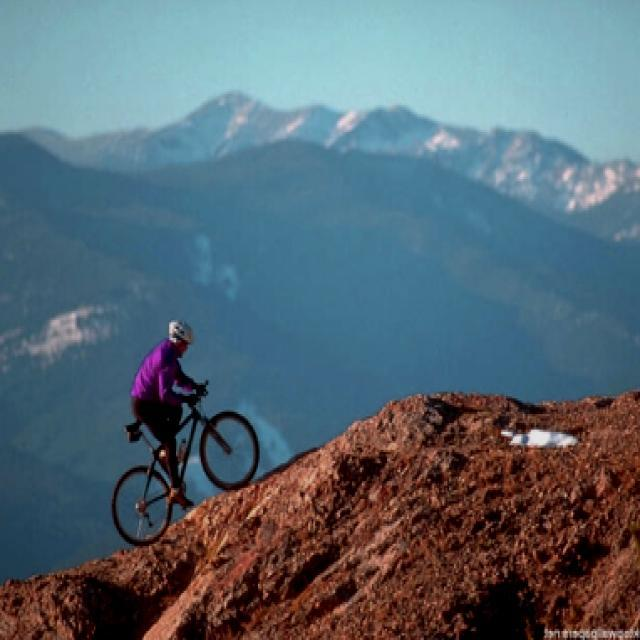Helmet: (168, 318, 196, 356)
